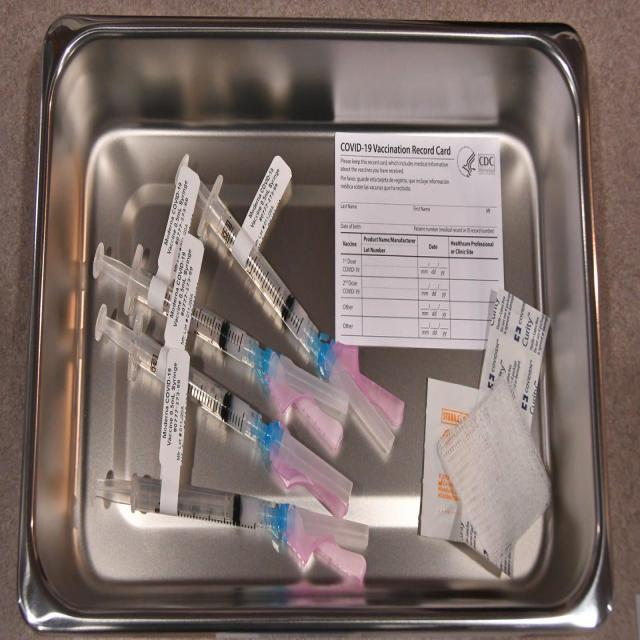B3: (85, 423, 395, 580), (170, 145, 331, 343)
